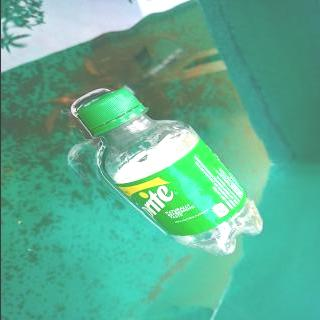bottle: (75, 87, 262, 255)
